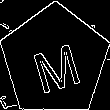M_N: (27, 29, 83, 92)
